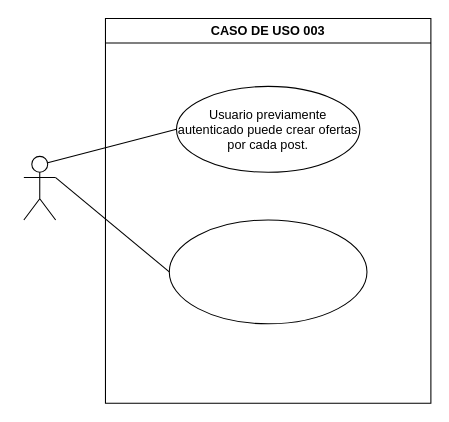
The diagram is 449 pixels wide and 422 high, and some of its shapes have lost their labels. Here are the shapes that lost their labels. From the top down, the centre of each, then its label:
pixel 39 187: Usuario
pixel 267 271: Da click en el boton que redirige al formulario de creacion de oferta
